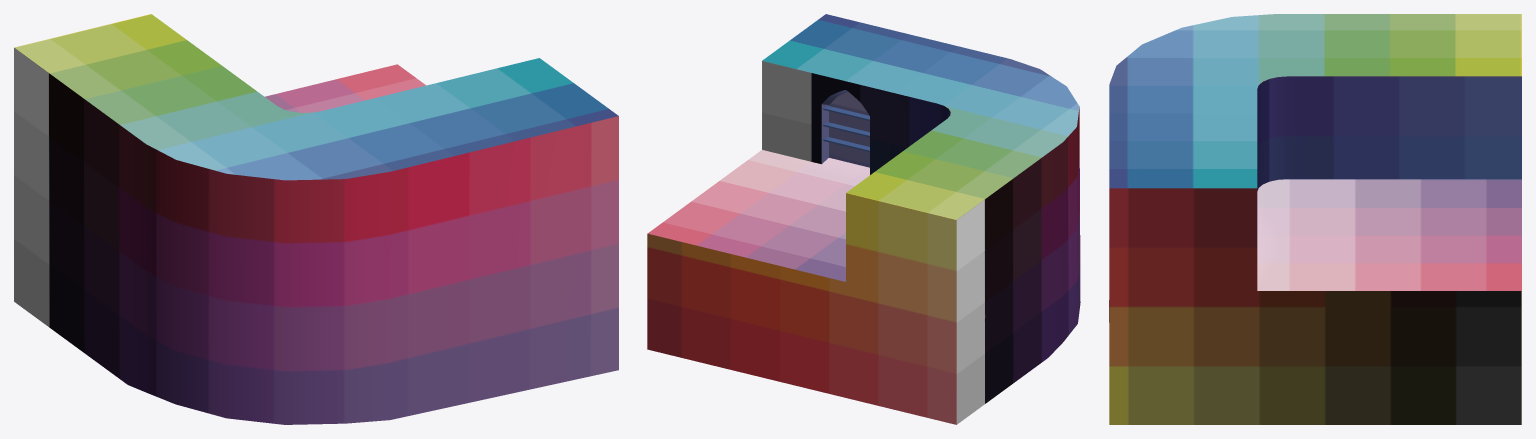
File: Block 1.fbx
3 renders of one model, left to right at view 1: azimuth 30°, elevation 25°; view 2: azimuth 150°, elevation 25°; view 3: azimuth 270°, elevation 25°, orthographic. The views are drawn at different scales.
Parts seen in each view (by area): view 1: block; view 2: block; view 3: block.
Boxes of the visible parts, left/top/right/bottom form: block: left=14, top=14, right=618, bottom=424; block: left=647, top=14, right=1080, bottom=424; block: left=1109, top=14, right=1521, bottom=424.
Size of the model in its own units: 10.92 by 6.91 by 10.92.
